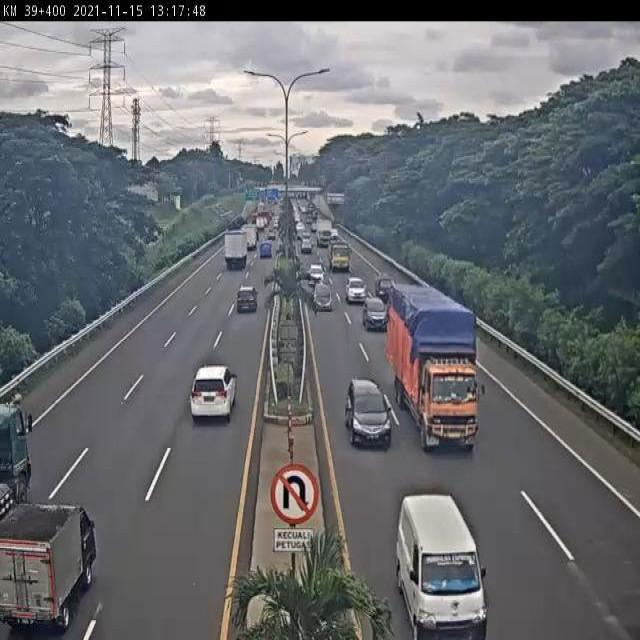bus-s-: (393, 485, 493, 640)
car: (345, 378, 393, 450), (189, 360, 238, 424), (363, 296, 389, 329), (235, 282, 258, 314), (313, 283, 334, 313), (347, 277, 369, 303), (307, 264, 326, 285)
truck-m-: (393, 284, 481, 451), (223, 228, 247, 269), (326, 241, 353, 275)
truck-s-: (0, 498, 97, 640)
truck-xl-: (0, 400, 41, 503)
